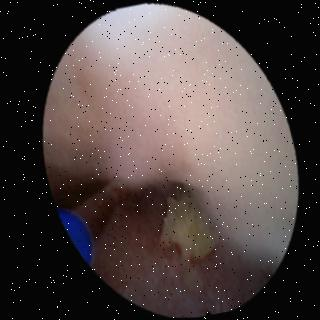fiber: (56, 212, 85, 263)
stone: (157, 189, 211, 261)
